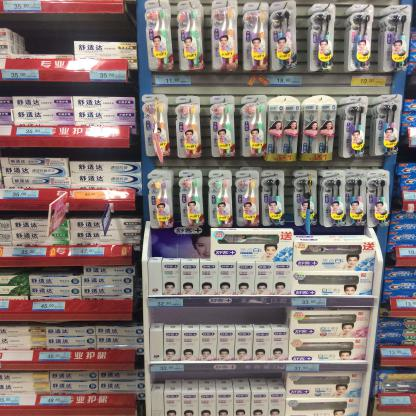Void: (151, 303, 287, 326), (22, 14, 72, 55), (76, 13, 134, 42)
